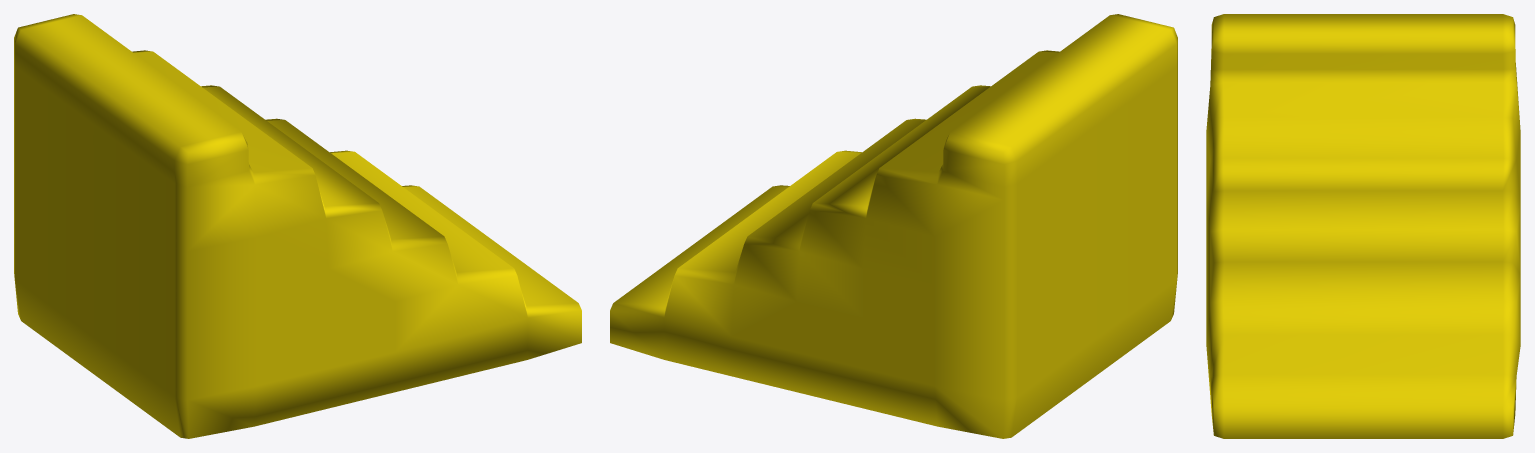
Rendered from StairsYellowLow.fbx.
The picture shows the model from 3 angles, left to right: view 1: azimuth 30°, elevation 25°; view 2: azimuth 150°, elevation 25°; view 3: azimuth 270°, elevation 25°; orthographic projection. The views are drawn at different scales.
Parts seen in each view (by area): view 1: pCube2; view 2: pCube2; view 3: pCube2.
Boxes of the visible parts, x1,y1,x2,y2 form: pCube2: [14, 14, 581, 438]; pCube2: [610, 14, 1177, 438]; pCube2: [1206, 14, 1520, 438].
Bounding box in the file's own units: 7.88 × 5.52 × 6.05.
